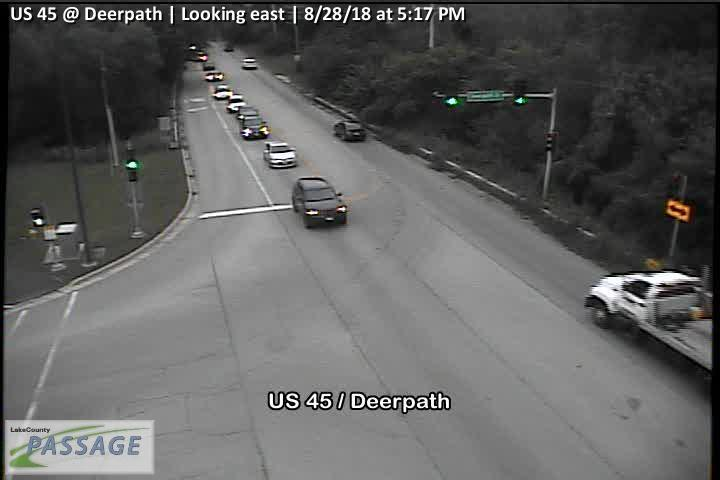SUV: (290, 176, 349, 230), (333, 118, 367, 145), (239, 116, 271, 141), (227, 93, 246, 111), (192, 50, 208, 62), (241, 59, 259, 69)
Sedan: (261, 140, 299, 170), (236, 104, 260, 120), (214, 84, 232, 99), (204, 71, 225, 83), (201, 61, 216, 71)
Truck: (583, 269, 720, 374)
